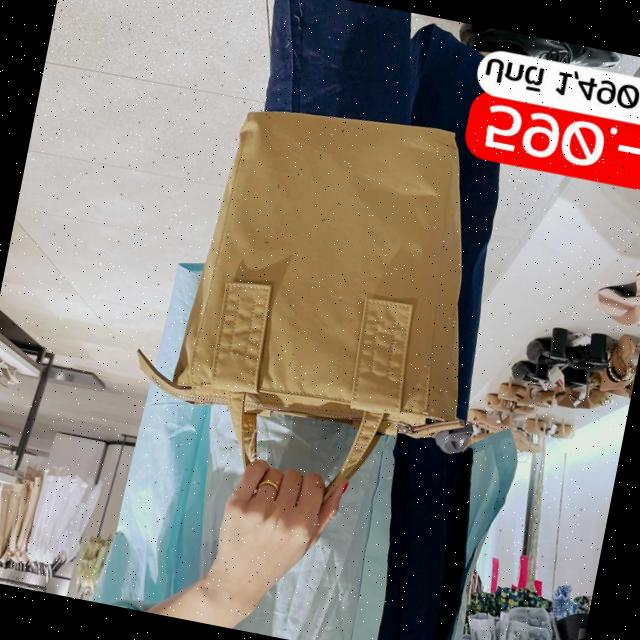handbag: (152, 66, 544, 486)
